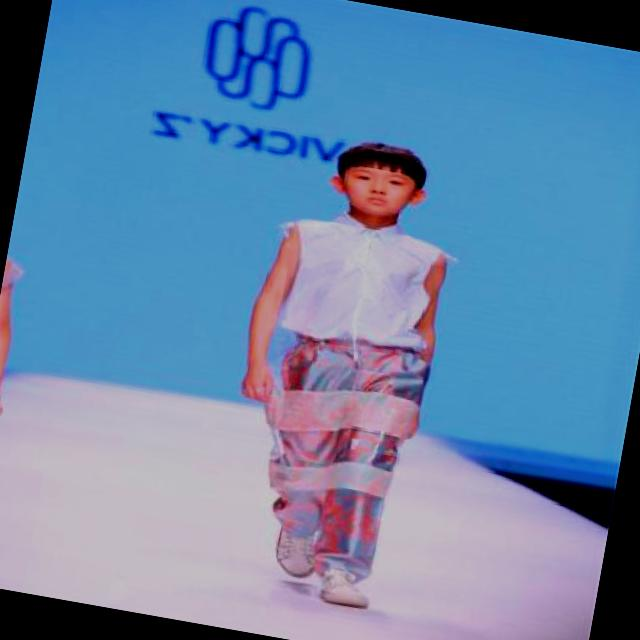Person: (188, 103, 493, 638)
